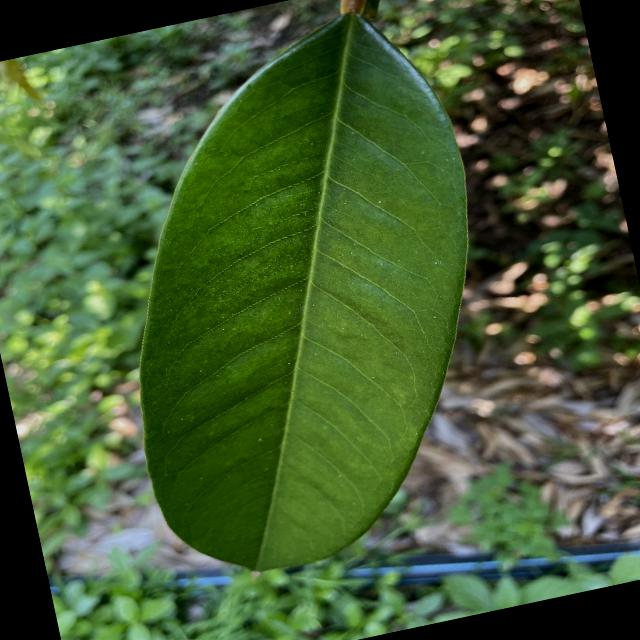No Disease: (48, 0, 553, 609)
